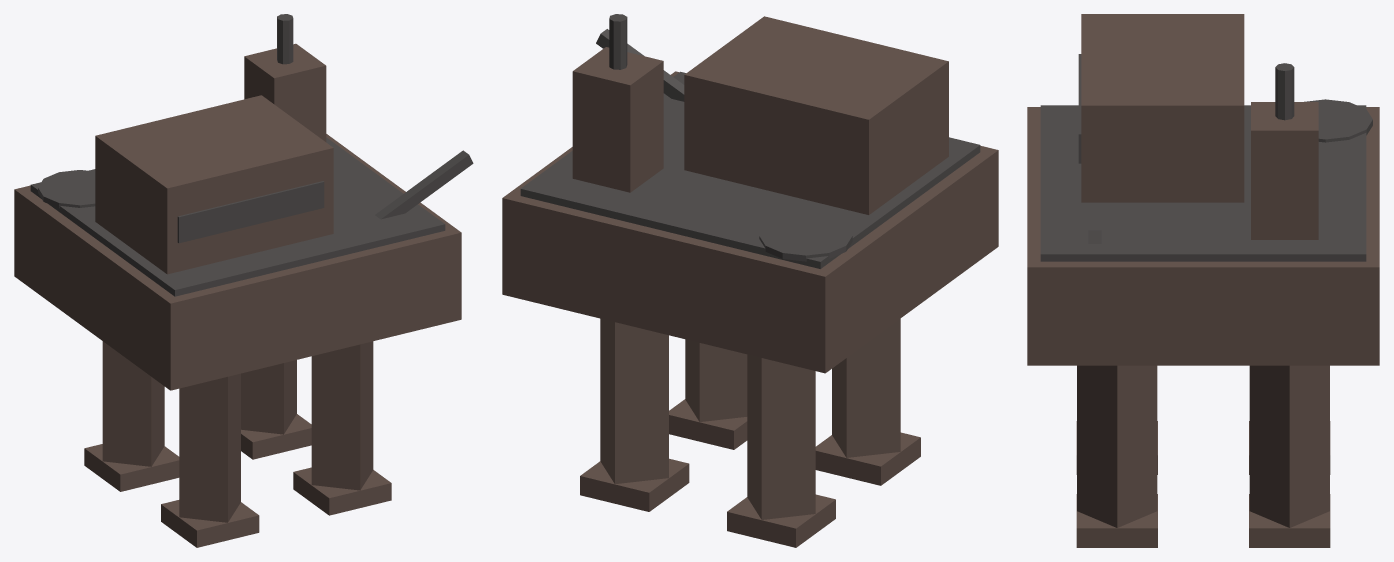
File: dead_rig_script.glb
3 views of the same model, side by side, from view 1: azimuth 30°, elevation 25°; view 2: azimuth 150°, elevation 25°; view 3: azimuth 270°, elevation 25° (orthographic). The views are drawn at different scales.
Visible parts, largest first — view 1: Cube.008, Cube.010, Cube.009, Cube.006, Cube.004, Cube.002, Cube.012, Cube.011, Cube, Cube.005, Cube.007, Cube.003 (+4 smaller); view 2: Cube.008, Cube.010, Cube.009, Cube.012, Cube, Cube.002, Cube.004, Cube.006, Cylinder.001, Cube.001, Cube.003, Cube.005 (+3 smaller); view 3: Cube.008, Cube.010, Cube.009, Cube, Cube.006, Cube.012, Cube.001, Cube.007, Cylinder.001, Cylinder, Cube.011.
Boxes of the visible parts, <box> form: Cube.008: <box>14,134,461,390</box>; Cube.010: <box>95,95,333,274</box>; Cube.009: <box>30,137,445,296</box>; Cube.006: <box>311,341,373,490</box>; Cube.004: <box>179,373,240,522</box>; Cube.002: <box>102,341,164,466</box>; Cube.012: <box>244,43,326,141</box>; Cube.011: <box>177,181,324,243</box>; Cube: <box>241,360,296,434</box>; Cube.005: <box>161,500,259,547</box>; Cube.007: <box>293,467,391,515</box>; Cube.003: <box>84,444,179,491</box>; Cube.008: <box>502,71,998,373</box>; Cube.010: <box>684,16,948,214</box>; Cube.009: <box>520,71,980,268</box>; Cube.012: <box>572,47,663,192</box>; Cube: <box>600,318,668,484</box>; Cube.002: <box>747,354,815,519</box>; Cube.004: <box>832,318,900,457</box>; Cube.006: <box>685,339,747,421</box>; Cylinder.001: <box>759,216,852,261</box>; Cube.001: <box>580,458,689,511</box>; Cube.003: <box>727,494,835,547</box>; Cube.005: <box>815,432,920,485</box>; Cube.008: <box>1027,107,1379,365</box>; Cube.010: <box>1081,14,1244,202</box>; Cube.009: <box>1040,105,1366,261</box>; Cube: <box>1249,365,1329,527</box>; Cube.006: <box>1077,365,1157,527</box>; Cube.012: <box>1251,102,1318,239</box>; Cube.001: <box>1249,494,1330,547</box>; Cube.007: <box>1076,494,1157,547</box>; Cylinder.001: <box>1304,99,1372,142</box>; Cylinder: <box>1275,63,1294,120</box>; Cube.011: <box>1078,54,1081,163</box>.
Bounding box in the file's own units: 31.74 × 38.5 × 26.
